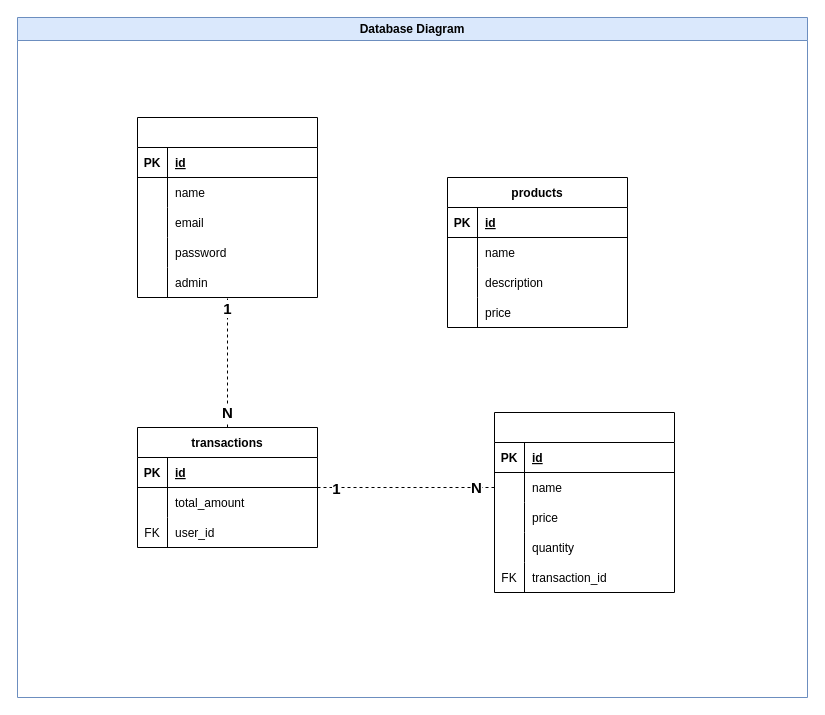
Some shapes in this 825 by 715 pixel diagram are drawn without their labels. Each missing label, with the box of its shape:
transaction_products: (494, 412, 674, 592)
users: (136, 116, 318, 298)
